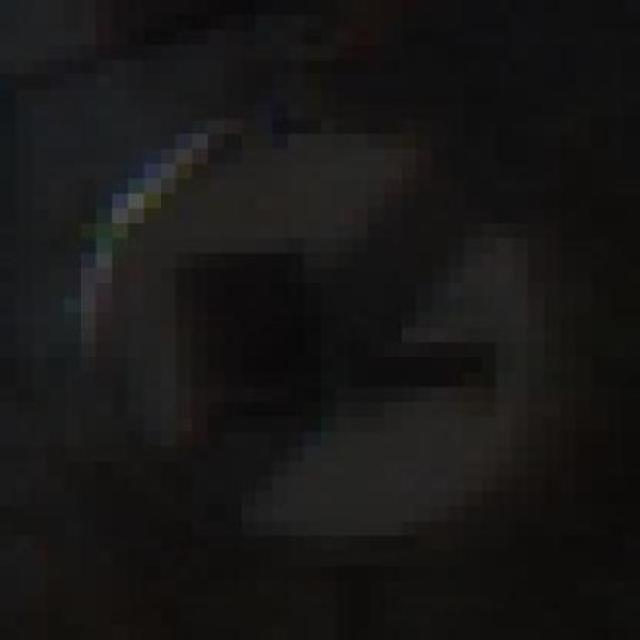Overtaking by trucks is prohibited: (48, 59, 608, 610)
